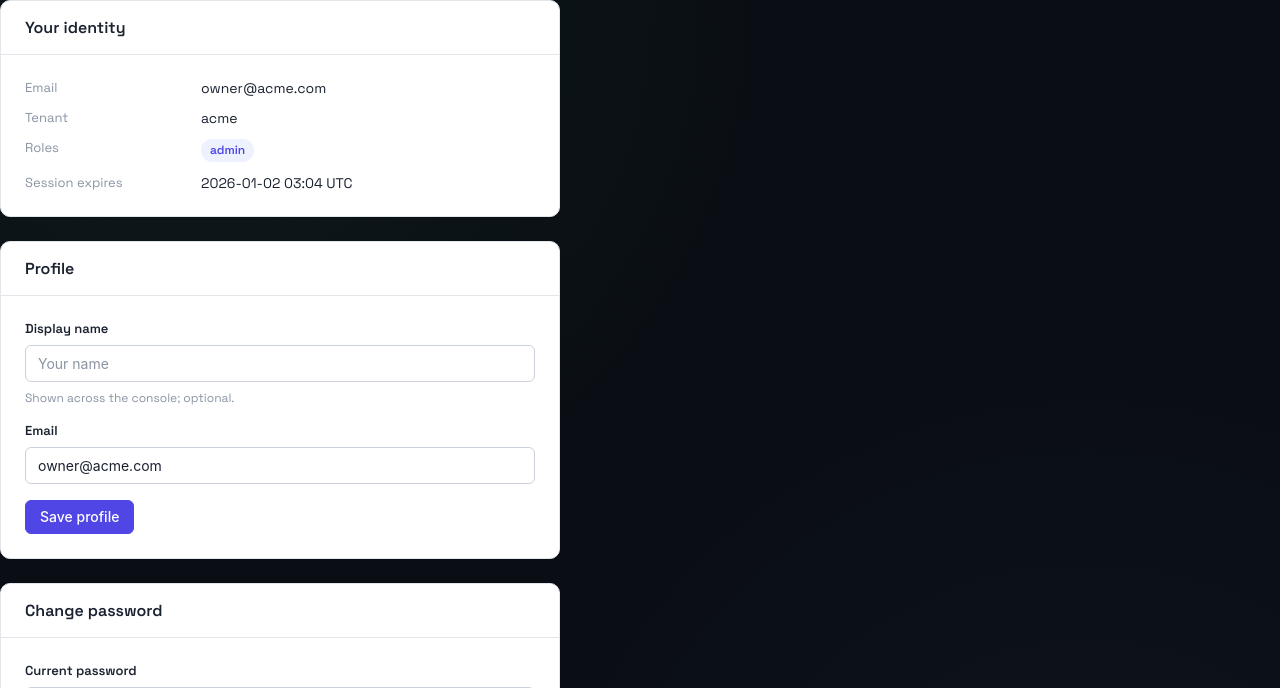
it: ProfileScreen profile edit (S96) › shows an API error from the profile save
This screenshot has width=1280, height=688.
Click the button with test id "p-save" at (80, 517), box [25, 500, 134, 534]
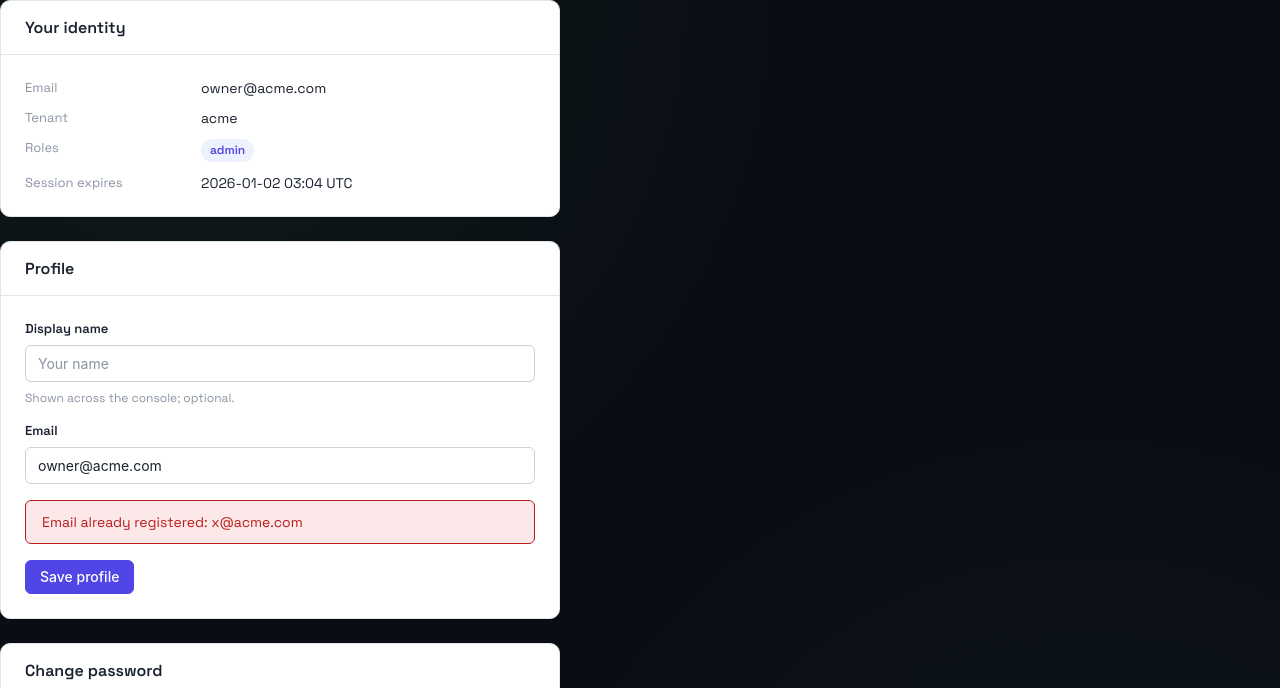
Expected: the message with test id "profile-msg" shows "already registered", [42, 513, 303, 531]
